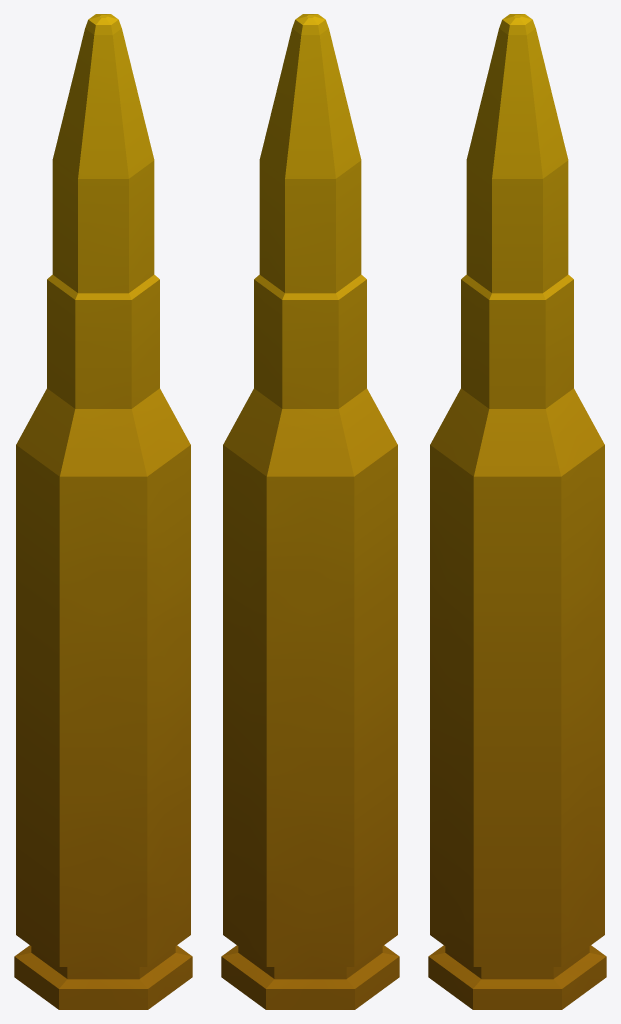
File: Bullet_50Cal_V1.glb
3 views of the same model, side by side, from view 1: azimuth 30°, elevation 25°; view 2: azimuth 150°, elevation 25°; view 3: azimuth 270°, elevation 25° (orthographic).
Parts seen in each view (by area): view 1: Bullet_50Cal_V1; view 2: Bullet_50Cal_V1; view 3: Bullet_50Cal_V1.
Boxes of the visible parts, box(x1,y1,x2,y2) form: Bullet_50Cal_V1: box(14, 14, 192, 1009); Bullet_50Cal_V1: box(221, 14, 399, 1009); Bullet_50Cal_V1: box(428, 14, 606, 1009).
Bounding box in the file's own units: 0.0201 × 0.138 × 0.0232.
1 material, 1 textured.
